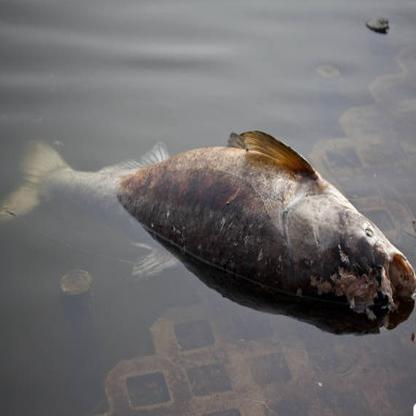deceased fish: (4, 113, 415, 320)
